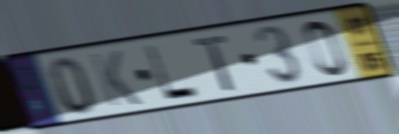0: (48, 53, 97, 118), (302, 19, 347, 79)
3: (255, 24, 303, 86)
K: (87, 48, 145, 109)
L: (142, 42, 203, 102)
T: (191, 32, 239, 93)
